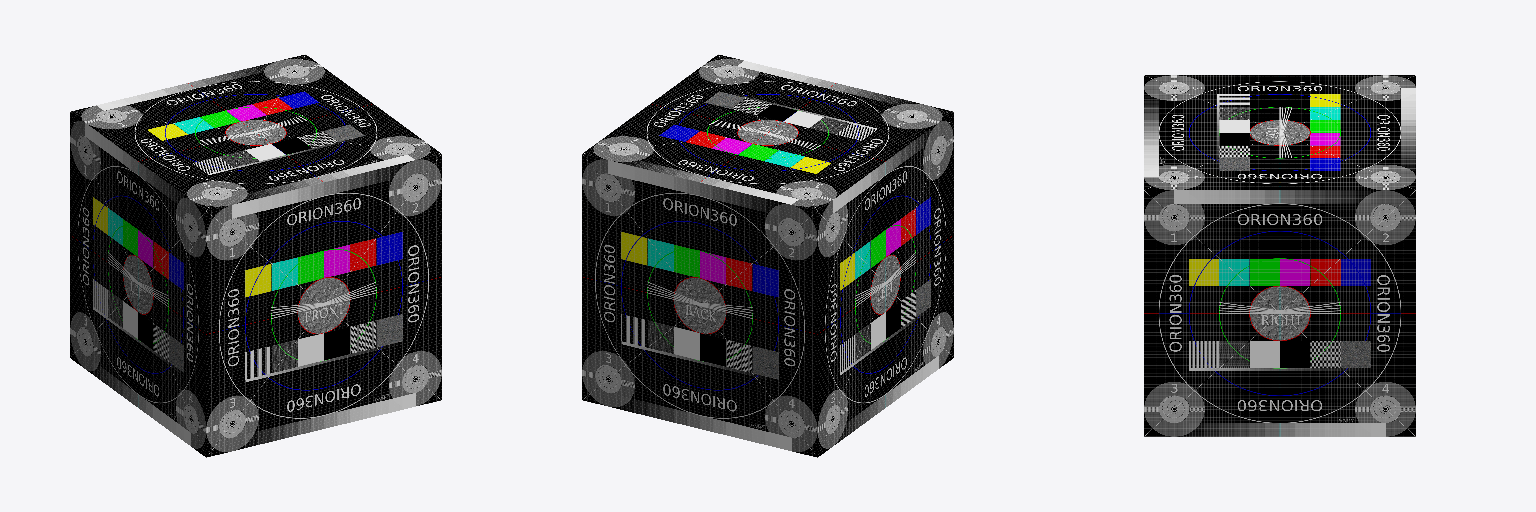
The picture shows the model from 3 angles: view 1: azimuth 30°, elevation 25°; view 2: azimuth 150°, elevation 25°; view 3: azimuth 270°, elevation 25°; orthographic projection.
Parts seen in each view (by area): view 1: Cube; view 2: Cube; view 3: Cube.
Boxes of the visible parts, box(x1,y1,x2,y2) form: Cube: box(70, 54, 441, 457); Cube: box(582, 54, 953, 457); Cube: box(1144, 75, 1415, 436).
Bounding box in the file's own units: 2 × 2 × 2.
Materials: 6 (6 with a texture image).